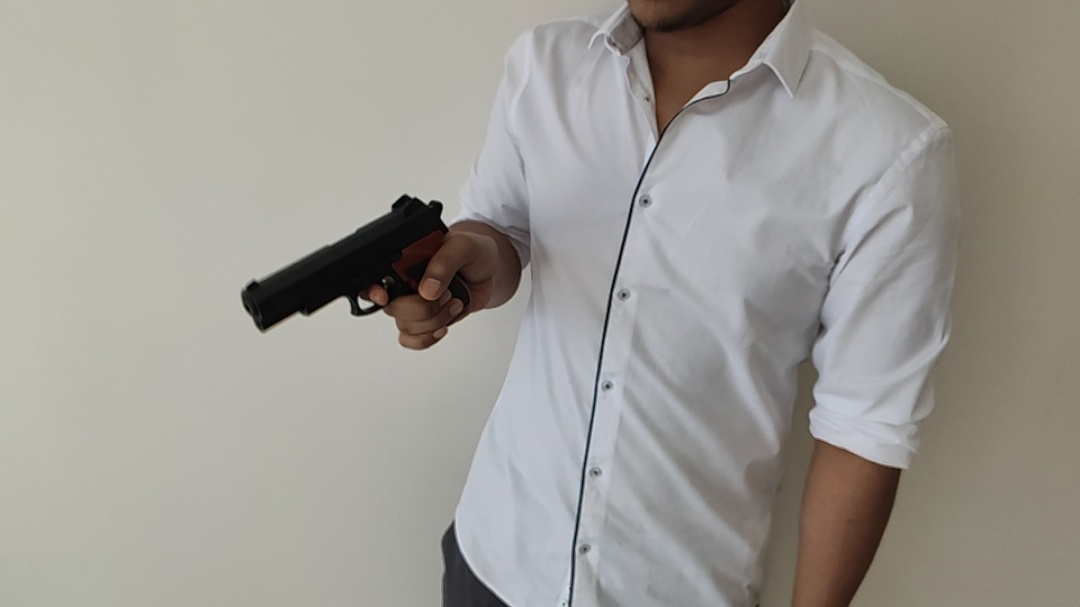gun: (240, 192, 471, 335)
